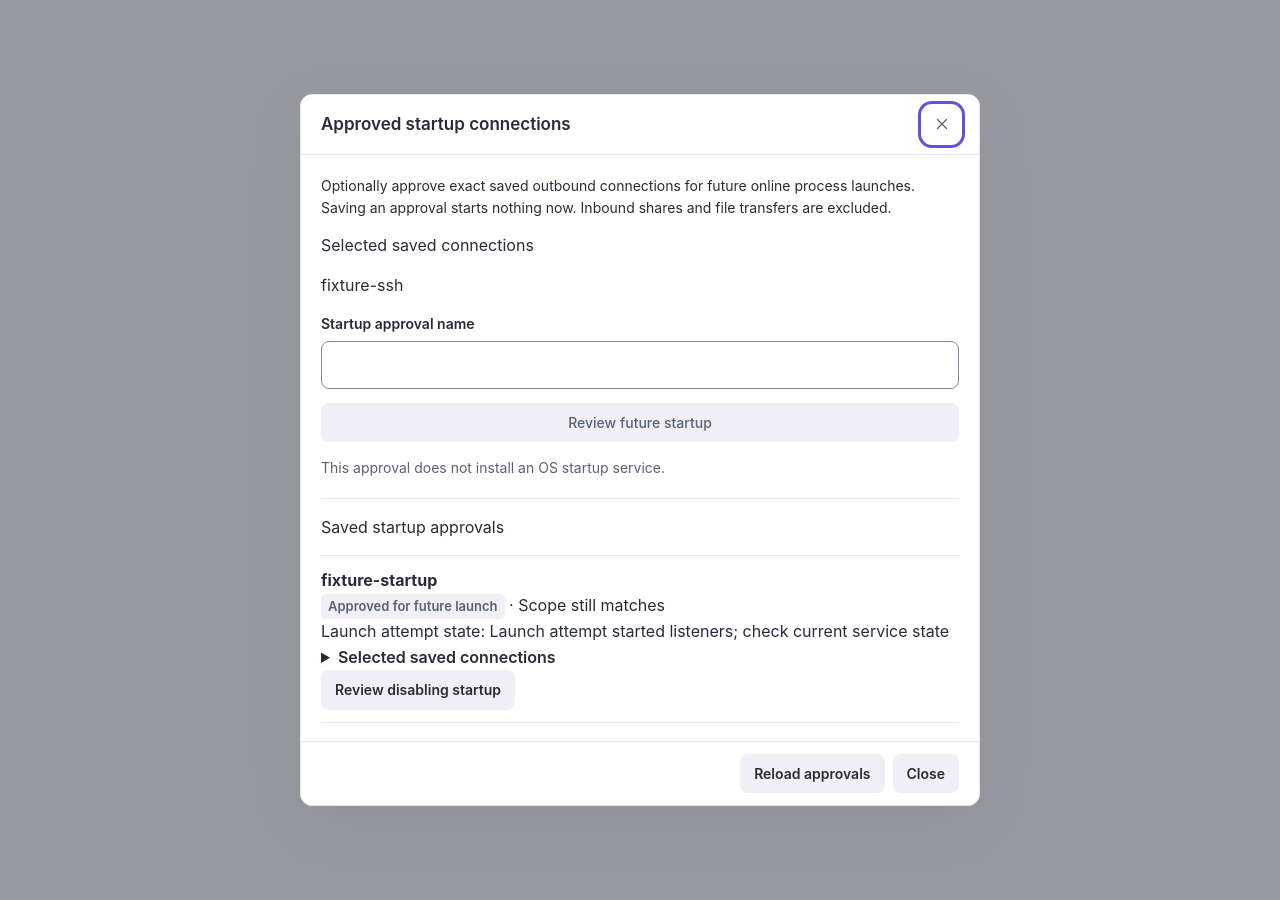
it: explicit future outbound startup › does not claim success after failed persistence in startup.disable
Click the button "Review disabling startup" at x=418, y=690, box [321,670,515,710]
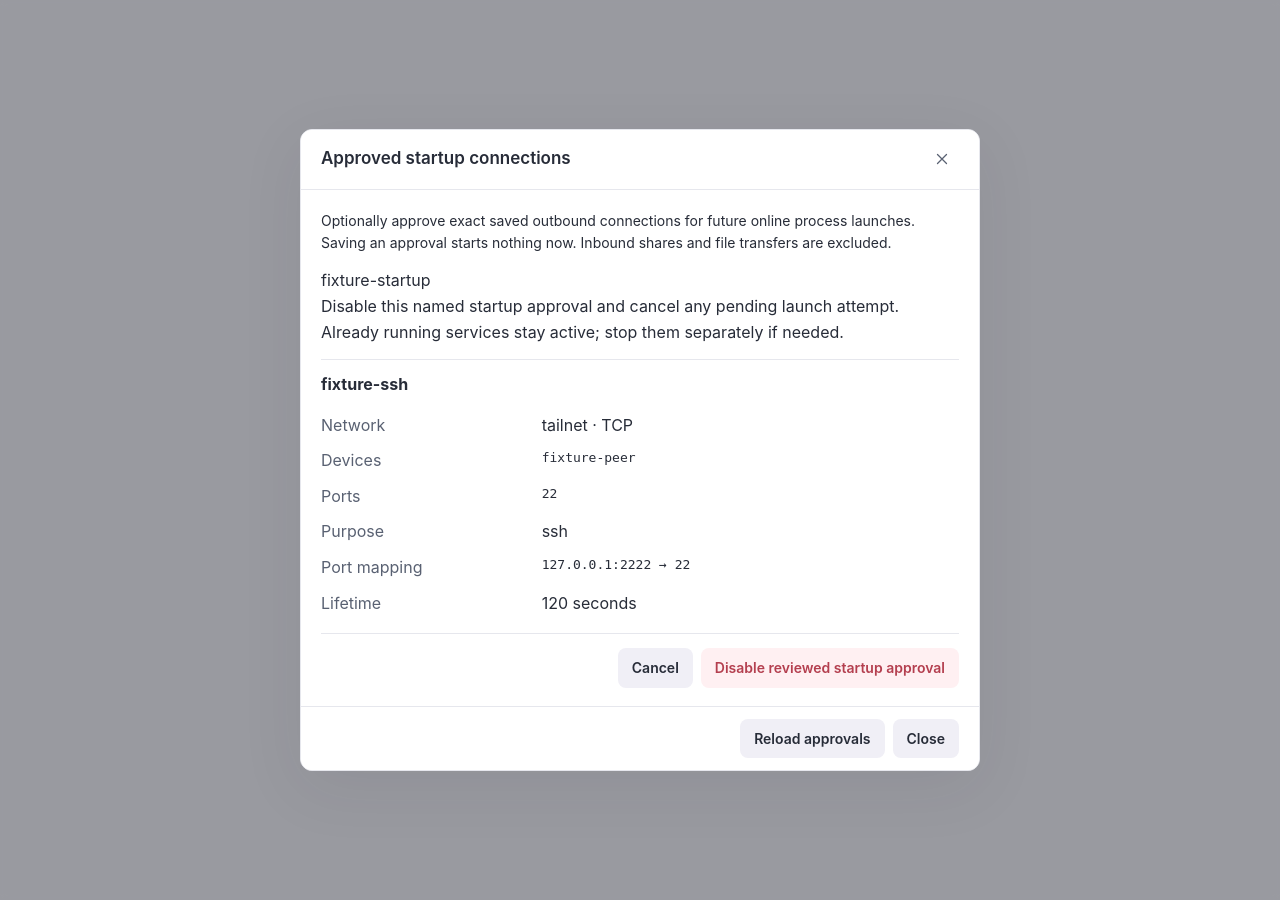
Click the button "Disable reviewed startup approval" at x=830, y=668, box [701,648,959,688]
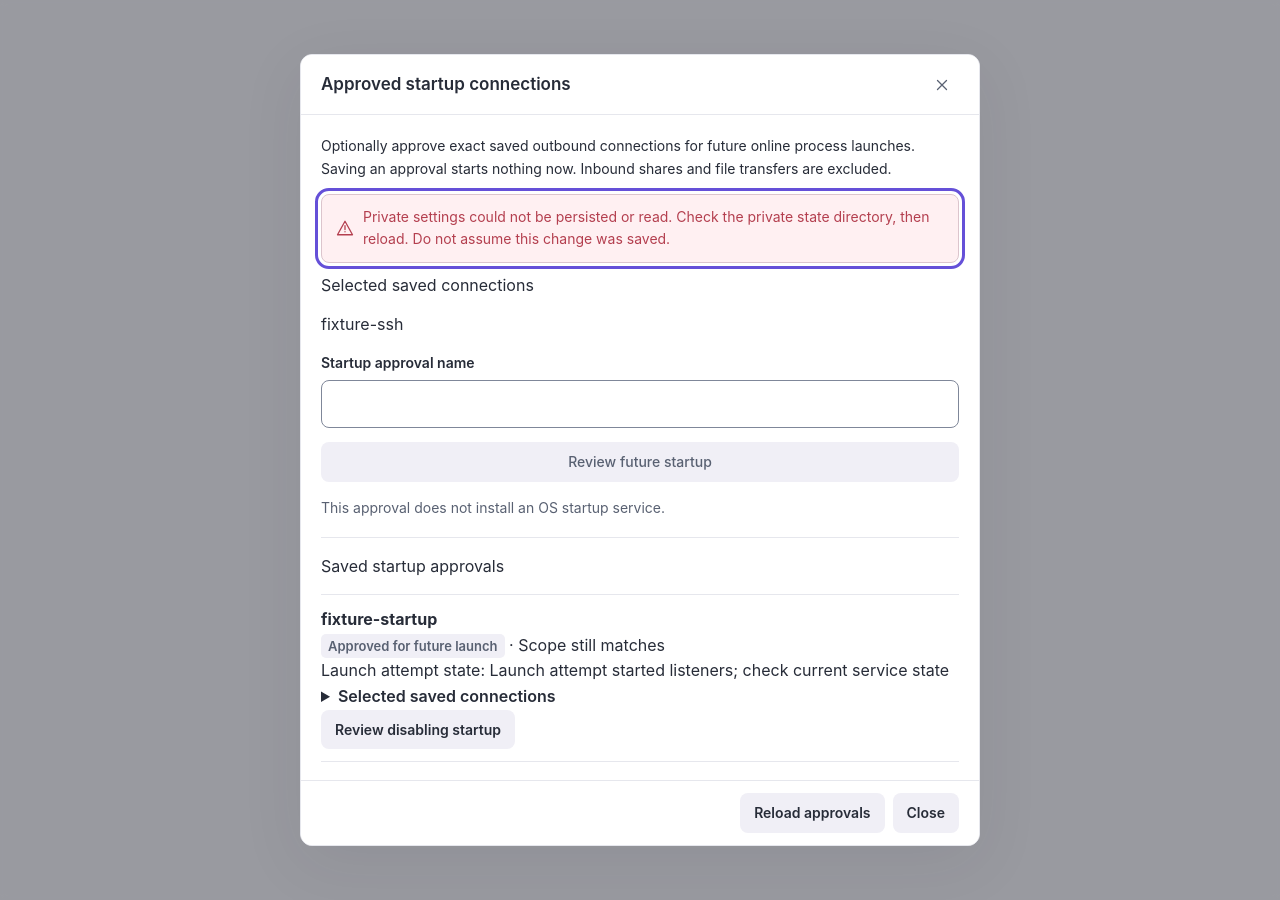
Expected: the message shows "Private settings could not be persisted or read. Check the private state directory, then reload. Do not assume this change was saved.", [363,208,930,247]
